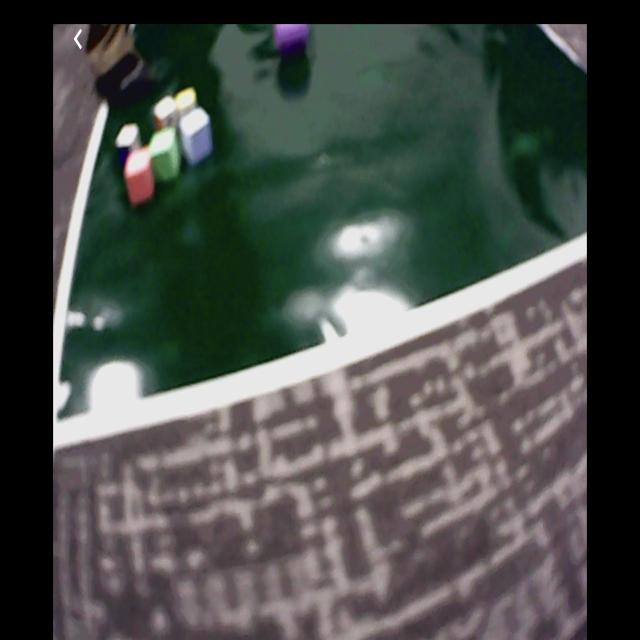ball: (276, 24, 312, 61)
